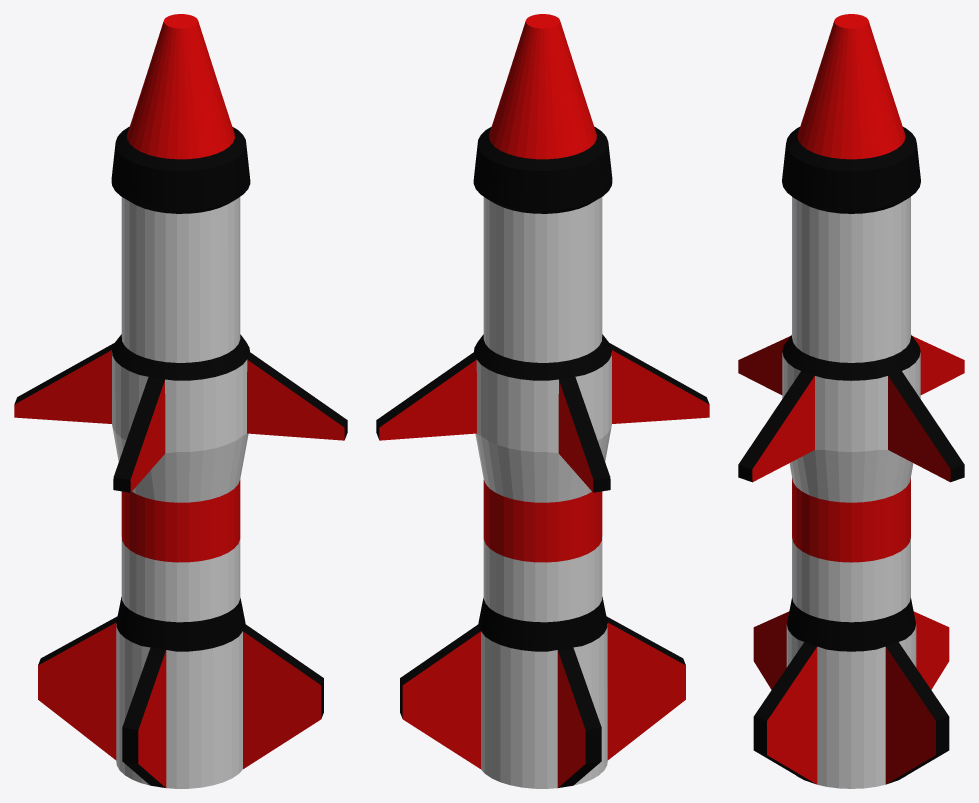
The model's file is Bounce 1.fbx.
3 views of the same model, side by side, from view 1: azimuth 30°, elevation 25°; view 2: azimuth 150°, elevation 25°; view 3: azimuth 270°, elevation 25° (orthographic).
Visible parts, largest first — view 1: Cylinder; view 2: Cylinder; view 3: Cylinder.
Boxes of the visible parts, x1,y1,x2,y2 form: Cylinder: (14,14,347,788); Cylinder: (376,14,709,788); Cylinder: (738,14,964,788).
Bounding box in the file's own units: 96.65 × 292 × 80.99.
